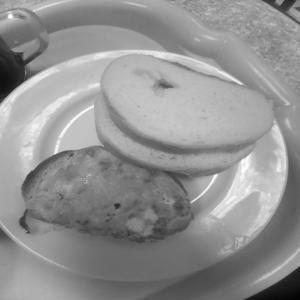bread: (84, 40, 273, 177)
cheese_sandwich: (14, 141, 211, 251)
